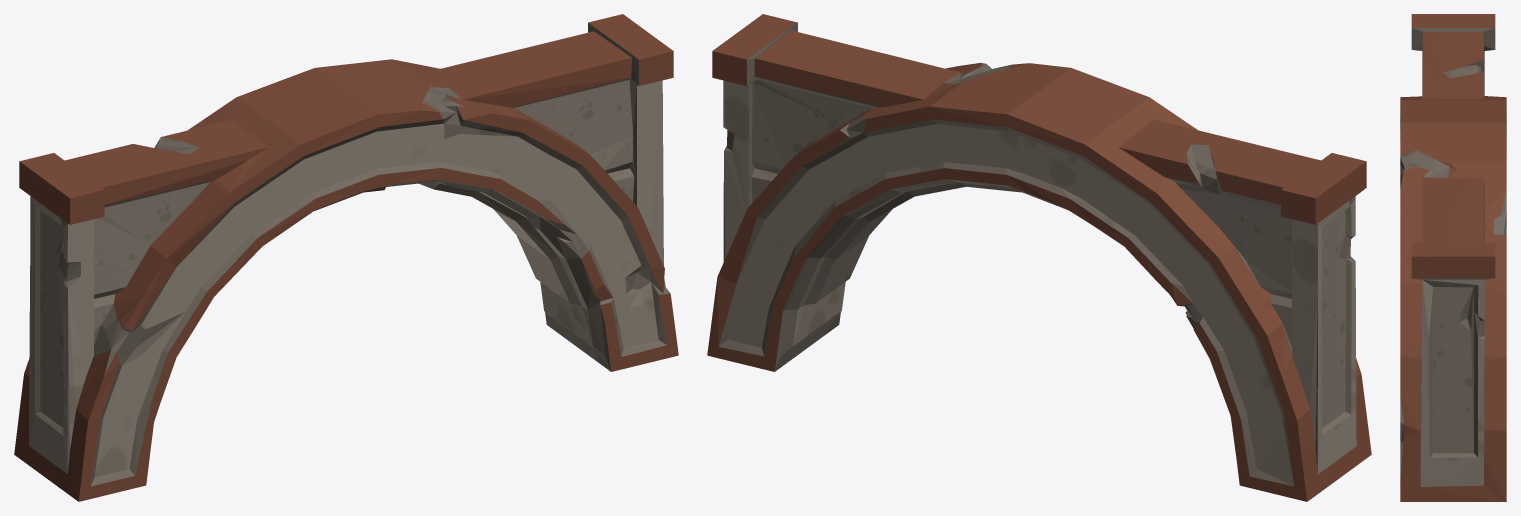
Rendered from pit_ruin_arch.gltf.
The picture shows the model from 3 angles, left to right: view 1: azimuth 30°, elevation 25°; view 2: azimuth 150°, elevation 25°; view 3: azimuth 270°, elevation 25°; orthographic projection. The views are drawn at different scales.
Visible parts, largest first — view 1: pit_ruin_arch; view 2: pit_ruin_arch; view 3: pit_ruin_arch.
Part boxes in pixels (x1,y1,x2,y2): pit_ruin_arch: (14,14,678,501); pit_ruin_arch: (707,14,1371,501); pit_ruin_arch: (1400,14,1506,501).
Bounding box in the file's own units: 8.09 × 4.02 × 1.5.
1 material, 1 textured.
